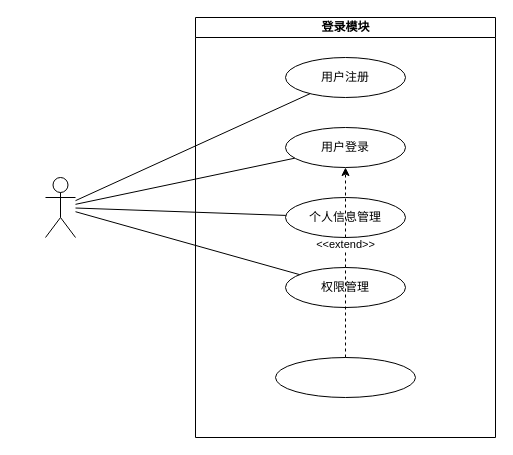
Image size: 513x455. Some labels were removed from this diagram. Here are the shapes that lost their labels. From the top down, the centre of each, then its label:
At point (60, 207): "管理员/普通用户".
At point (345, 377): "失败限制及锁定拦截".
